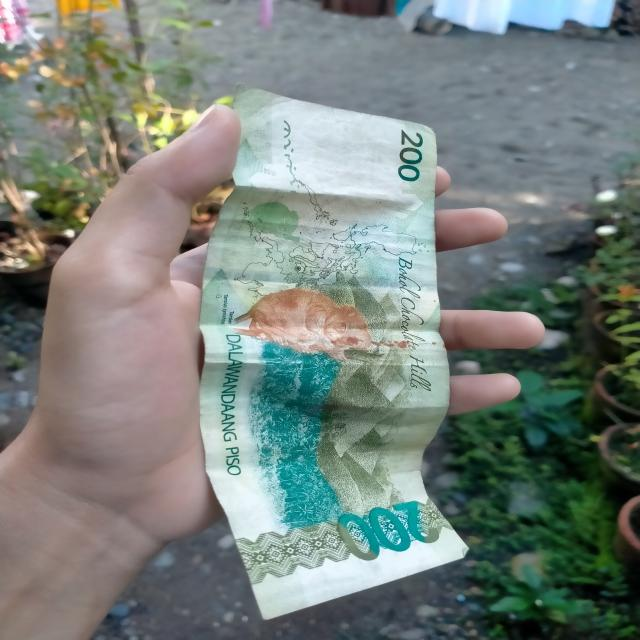see_through_mark: (264, 115, 302, 206)
value: (332, 494, 442, 560)
